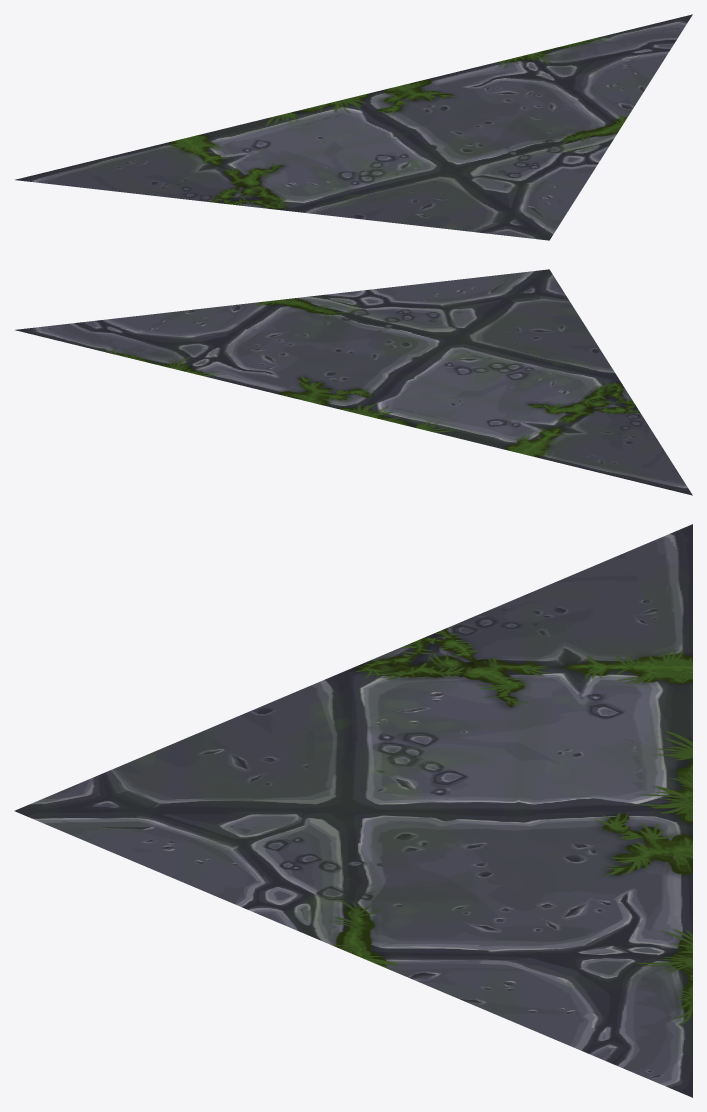
Rendered from MOD_Floor_01_O_angle_med_2_half.fbx.
The picture shows the model from 3 angles, top to bottom: view 1: azimuth 30°, elevation 25°; view 2: azimuth 150°, elevation 25°; view 3: azimuth 270°, elevation 25°; orthographic projection. The views are drawn at different scales.
Visible parts, largest first — view 1: MOD_Floor_01_O_angle_med_2_half; view 2: MOD_Floor_01_O_angle_med_2_half; view 3: MOD_Floor_01_O_angle_med_2_half.
Boxes of the visible parts, left/top/right/bottom form: MOD_Floor_01_O_angle_med_2_half: left=15, top=14, right=692, bottom=240; MOD_Floor_01_O_angle_med_2_half: left=15, top=269, right=692, bottom=495; MOD_Floor_01_O_angle_med_2_half: left=14, top=524, right=692, bottom=1097.
Bounding box in the file's own units: 400 × 0 × 200.
